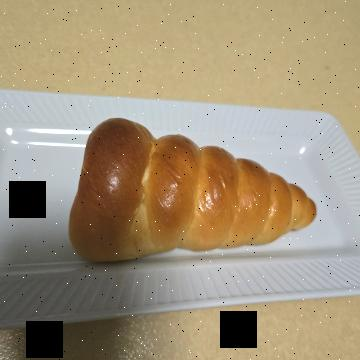cream horn: (106, 42, 288, 315)
